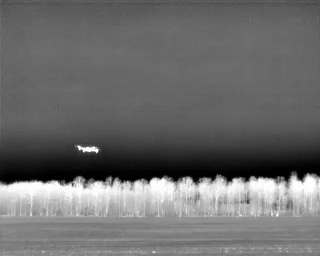DRONE: (71, 140, 103, 158)
